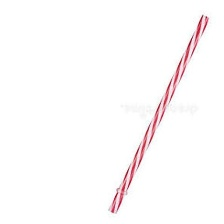drinking_straw: (102, 7, 214, 219)
